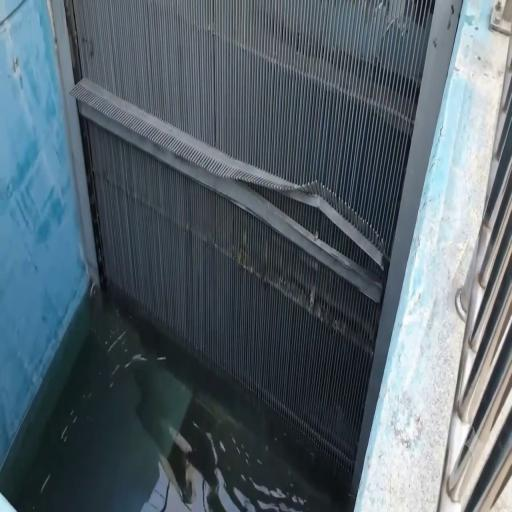rake_broken: (209, 159, 387, 271)
